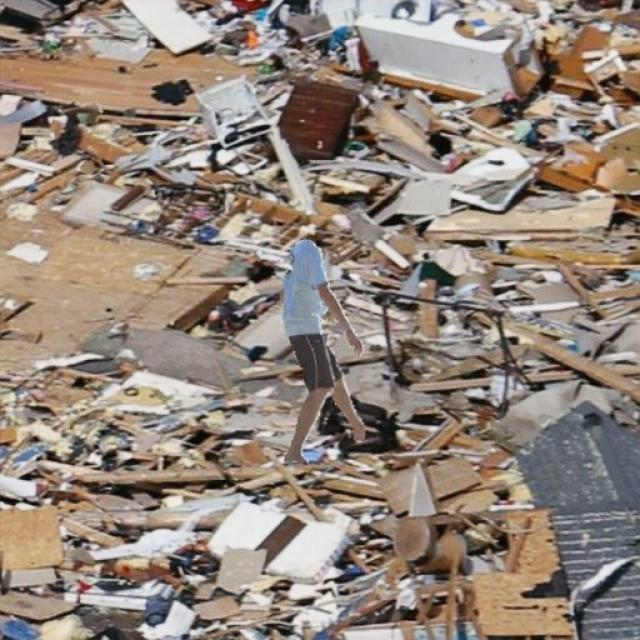Person in Rubble: (280, 238, 364, 462)
